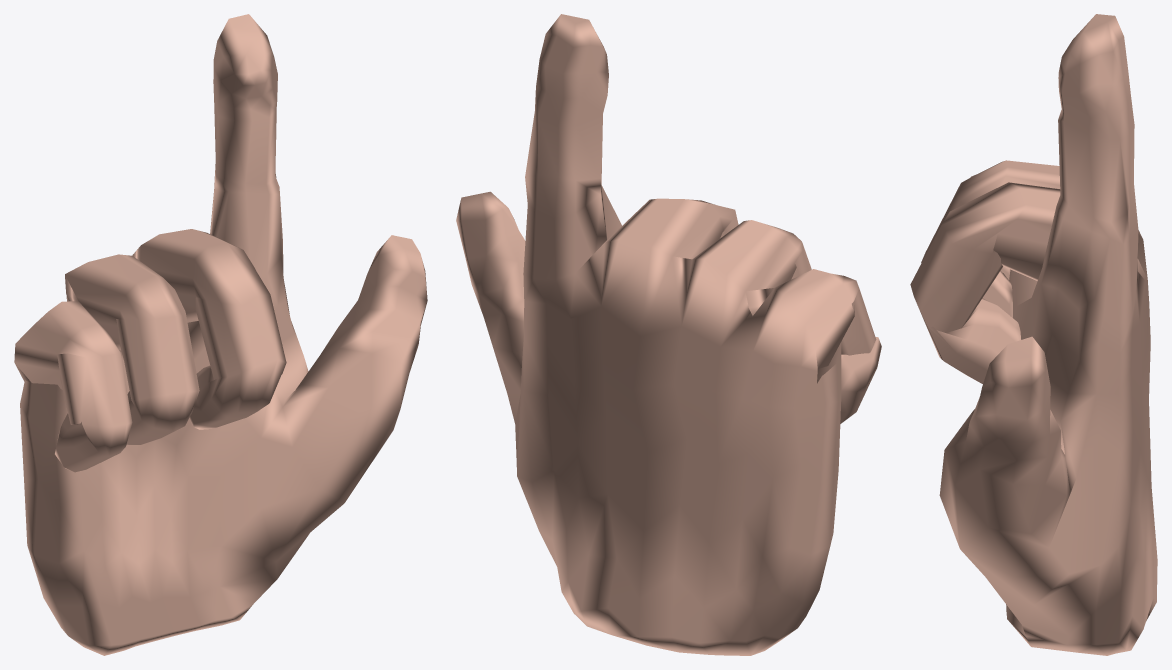
The model's file is MAO_REVOLVER.obj.
3 views of the same model, side by side, from view 1: azimuth 30°, elevation 25°; view 2: azimuth 150°, elevation 25°; view 3: azimuth 270°, elevation 25° (orthographic). The views are drawn at different scales.
Visible parts, largest first — view 1: mao_dir:mao_dir; view 2: mao_dir:mao_dir; view 3: mao_dir:mao_dir.
Boxes of the visible parts, x1=… form: mao_dir:mao_dir: x1=14, y1=14, x2=427, y2=655; mao_dir:mao_dir: x1=456, y1=14, x2=881, y2=655; mao_dir:mao_dir: x1=910, y1=14, x2=1157, y2=655.
Bounding box in the file's own units: 156 × 227 × 78.23.
